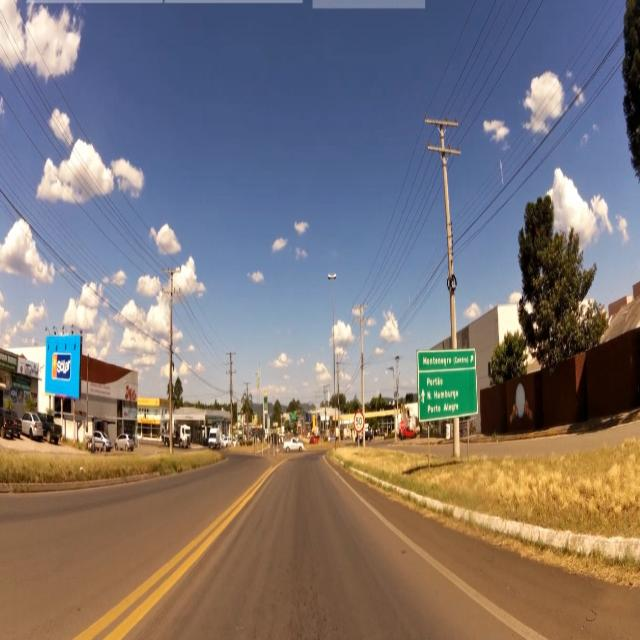I-4: (418, 351, 475, 417)
